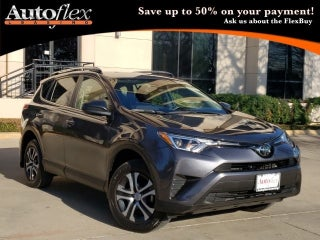Black Toyota RAV-4: (18, 66, 303, 235)
